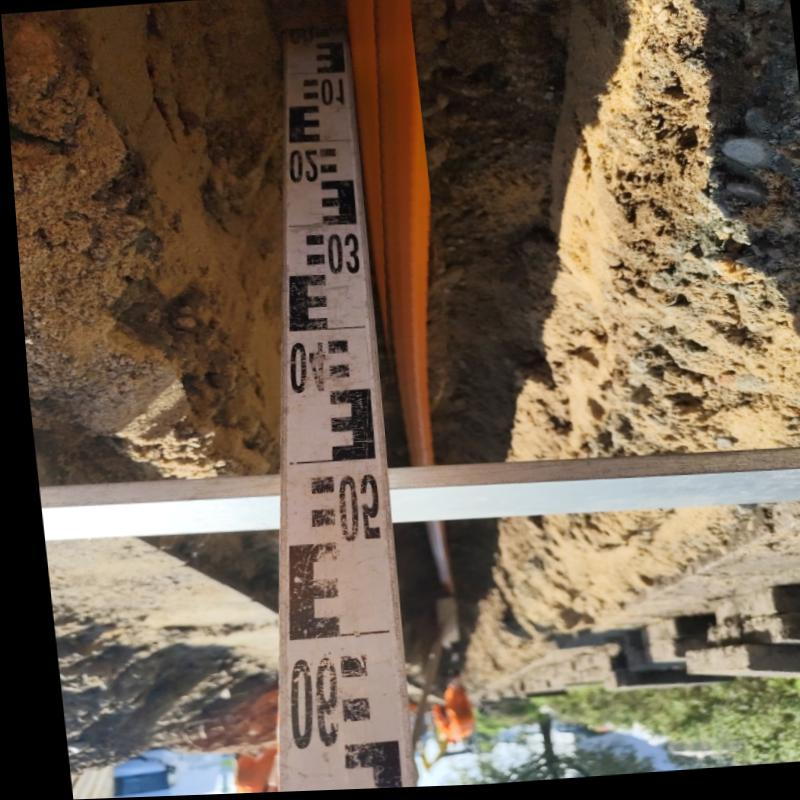Orang-Speednetrohrchen: (370, 0, 421, 470)
